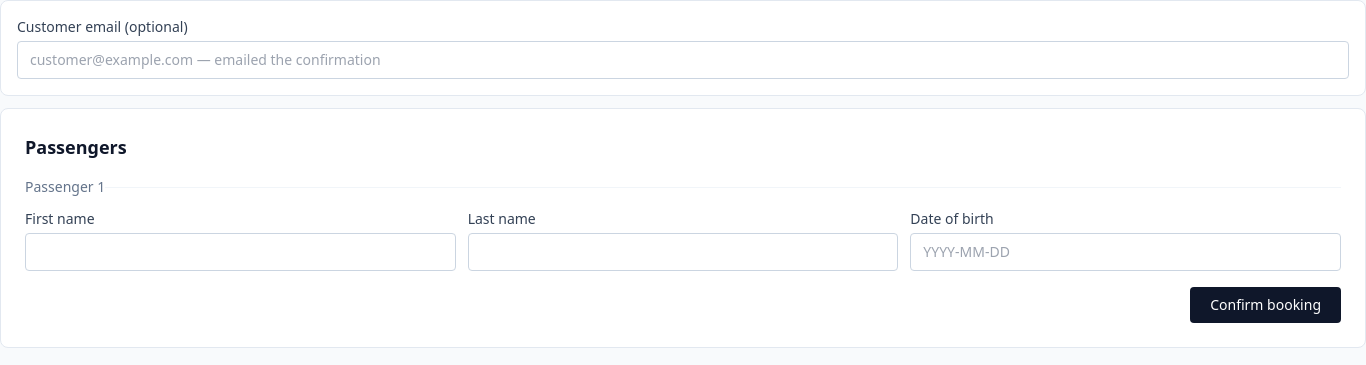
Test: BookingFlow › shows a confirmation with the reference on success
In the field labelled "First name": (240, 252) [25,233,456,271], type "Jane"
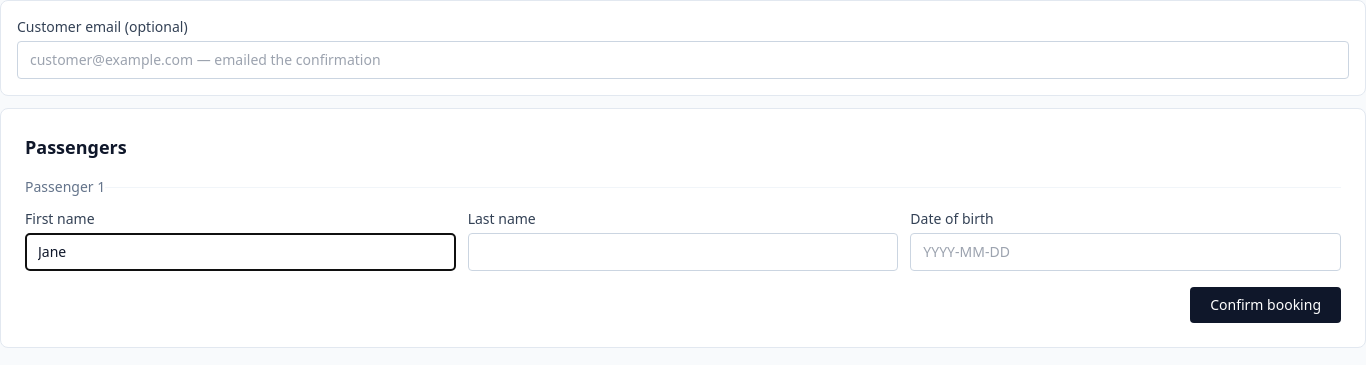
In the field labelled "Last name": (683, 252) [468,233,898,271], type "Doe"
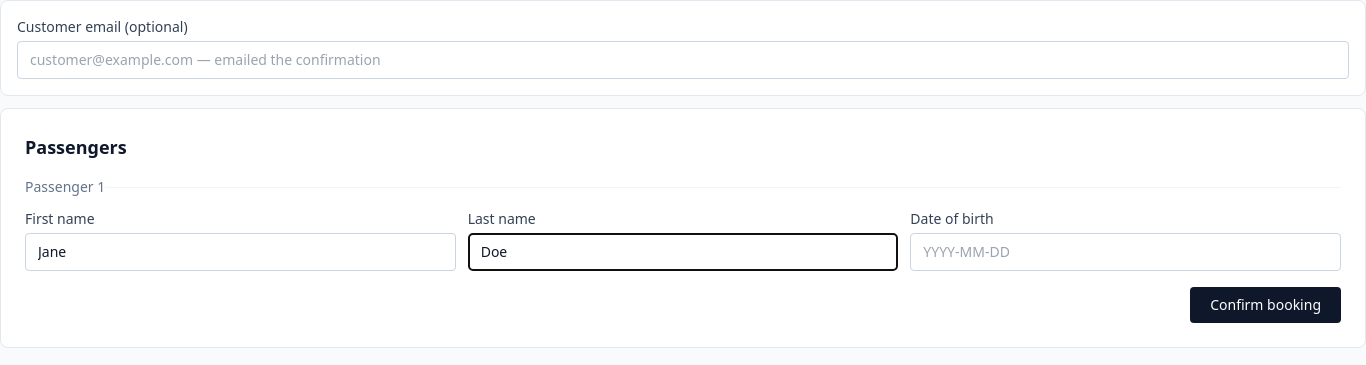
In the field labelled "Date of birth": (1126, 252) [910,233,1341,271], type "1990-01-01"
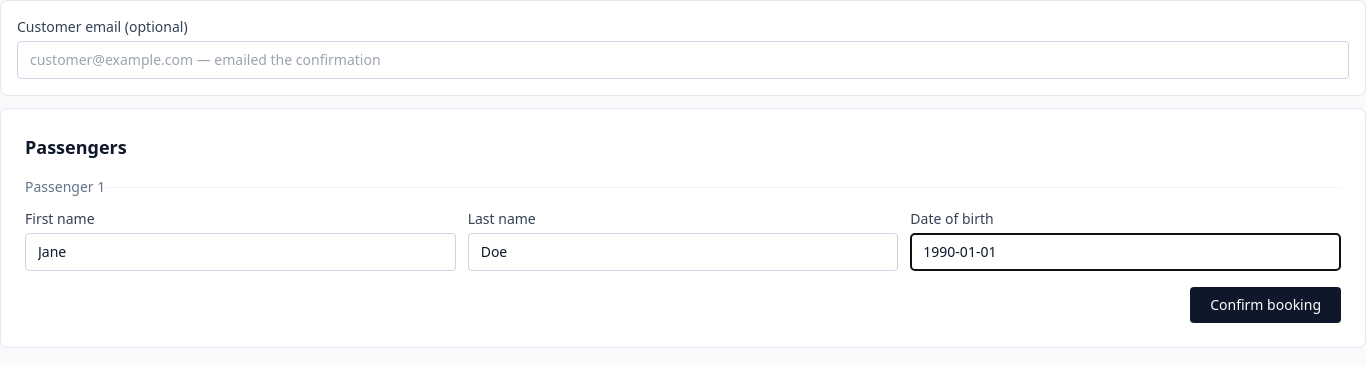
Click the button "Confirm booking": (1266, 305) [1190,287,1341,323]
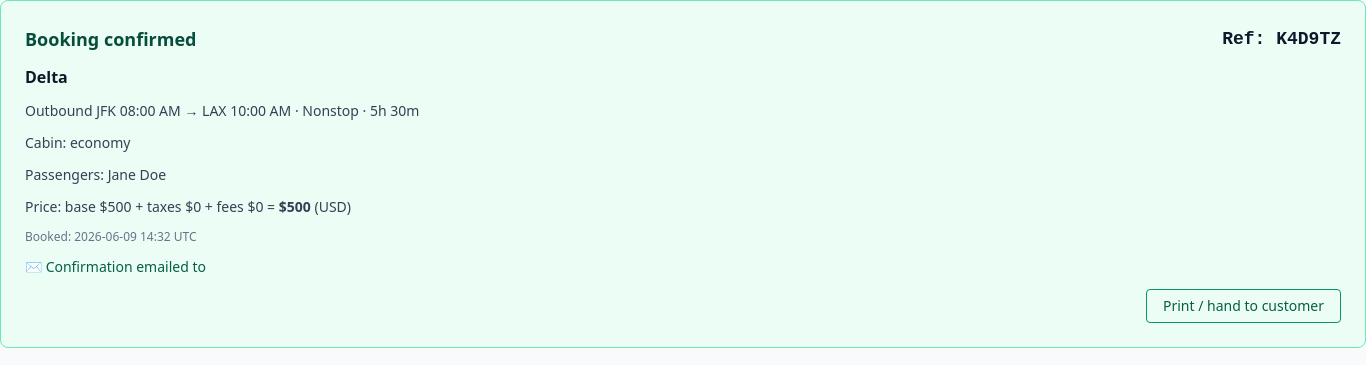
Check: the text "Ref: K4D9TZ" is shown, box [1222,25,1341,53]
